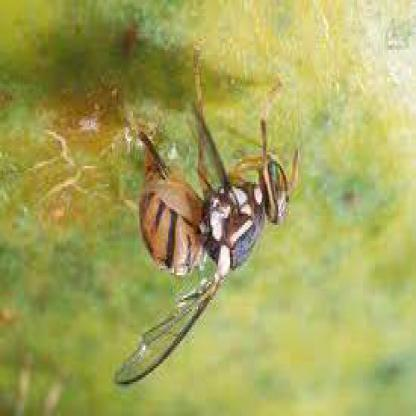fruit fly: (109, 52, 298, 385)
